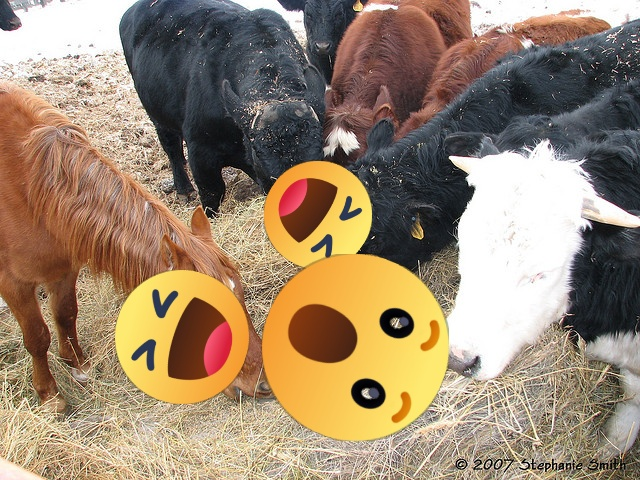haha: (115, 270, 249, 404), (264, 161, 372, 269)
wow: (262, 254, 449, 441)
